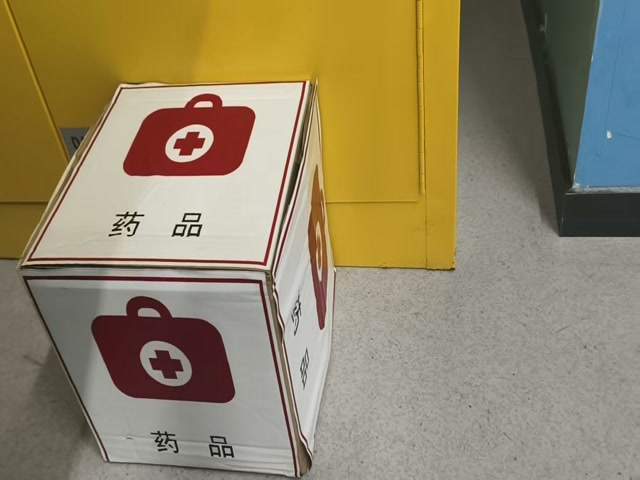Cube_medicine: (20, 82, 316, 280)
